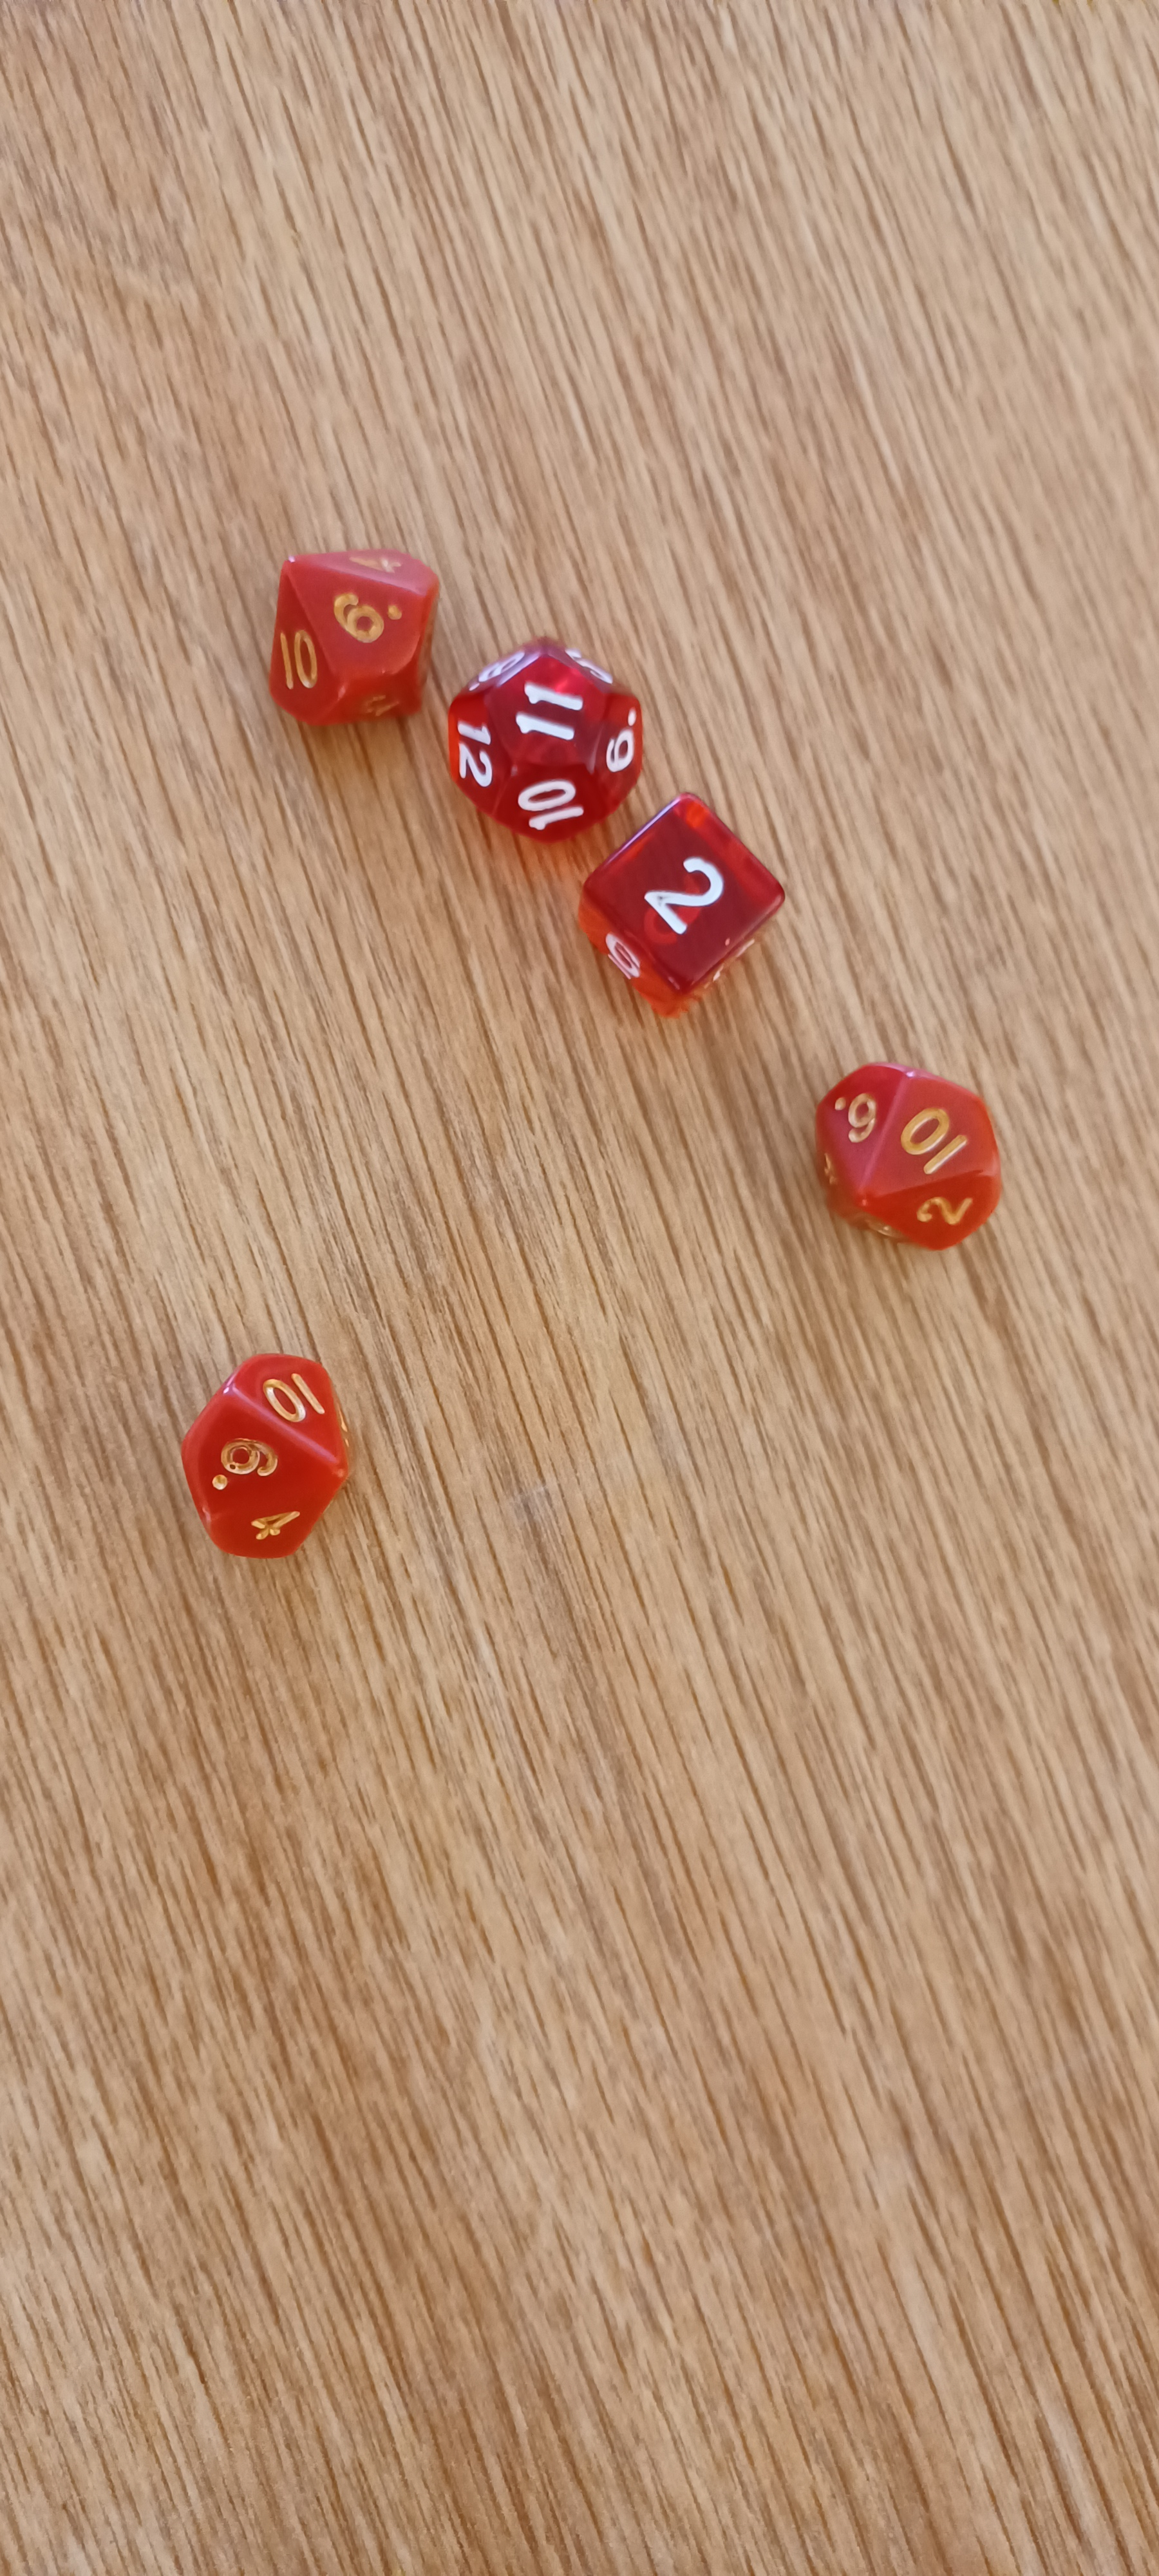eleven: (427, 624, 678, 876)
six: (118, 1308, 456, 1612), (213, 513, 471, 741)
ten: (762, 1014, 1085, 1299)
two: (553, 787, 816, 1042)
